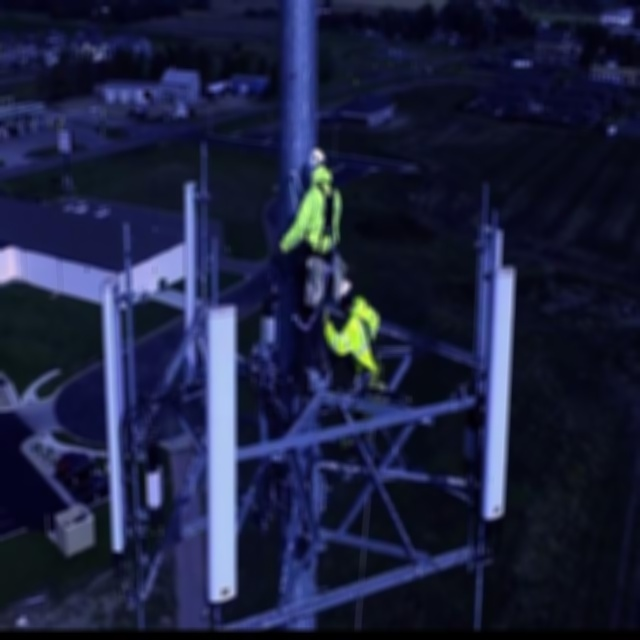Con_Chaleco: (344, 303, 380, 373)
